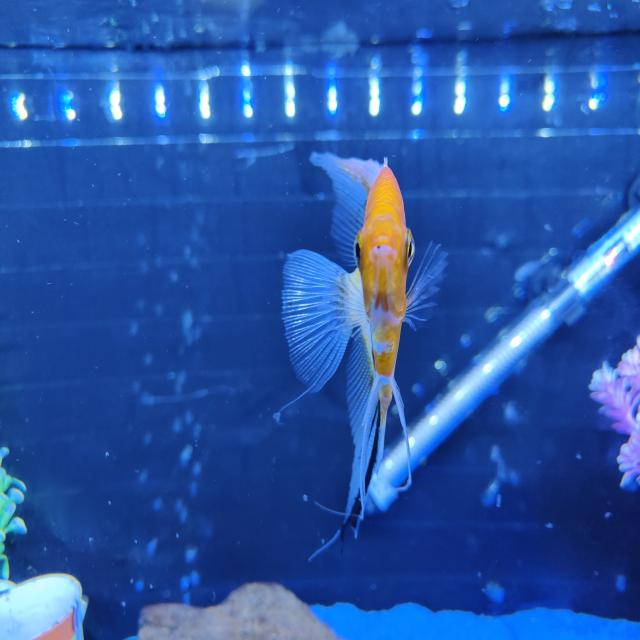Fish: (283, 153, 446, 560)
